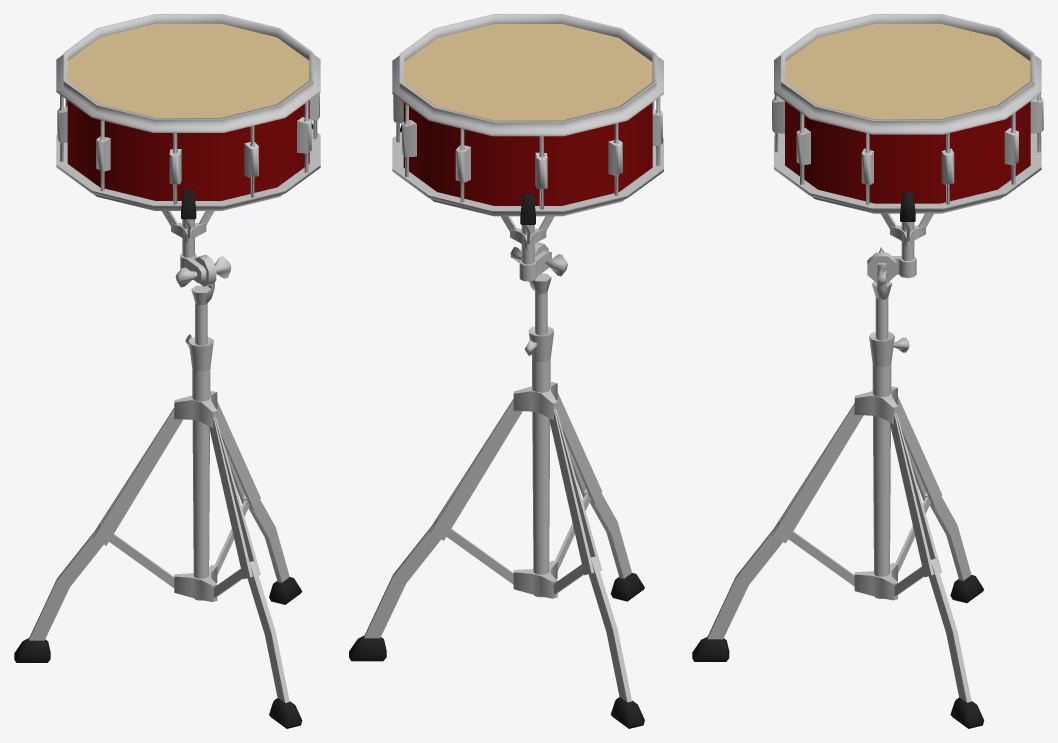
File: RockSceneSnareDrum.fbx
3 renders of one model, left to right at view 1: azimuth 30°, elevation 25°; view 2: azimuth 150°, elevation 25°; view 3: azimuth 270°, elevation 25°, orthographic. The views are drawn at different scales.
Parts seen in each view (by area): view 1: SnareDrum_Drum, SnareDrum_Legs, SnareDrum_Post, SnareDrum_RotartyThings, SnareDrum_DrumPost, SnareDrum_DrumHolder; view 2: SnareDrum_Drum, SnareDrum_Legs, SnareDrum_Post, SnareDrum_RotartyThings, SnareDrum_DrumPost, SnareDrum_DrumHolder; view 3: SnareDrum_Drum, SnareDrum_Legs, SnareDrum_Post, SnareDrum_RotartyThings, SnareDrum_DrumPost, SnareDrum_DrumHolder.
Boxes of the visible parts, x1,y1,x2,y2 form: SnareDrum_Drum: (56,14,320,210); SnareDrum_Legs: (14,391,302,728); SnareDrum_Post: (185,334,213,600); SnareDrum_RotartyThings: (57,93,319,204); SnareDrum_DrumPost: (171,219,231,345); SnareDrum_DrumHolder: (162,121,313,238); SnareDrum_Drum: (392,14,663,216); SnareDrum_Legs: (349,382,644,728); SnareDrum_Post: (524,326,553,597); SnareDrum_RotartyThings: (393,95,662,209); SnareDrum_DrumPost: (510,225,567,335); SnareDrum_DrumHolder: (400,124,554,244); SnareDrum_Drum: (774,14,1041,213); SnareDrum_Legs: (692,386,984,728); SnareDrum_Post: (869,332,909,598); SnareDrum_RotartyThings: (772,94,1043,204); SnareDrum_DrumPost: (867,222,925,340); SnareDrum_DrumHolder: (881,191,933,241).
Bounding box in the file's own units: 339 × 659 × 355.
